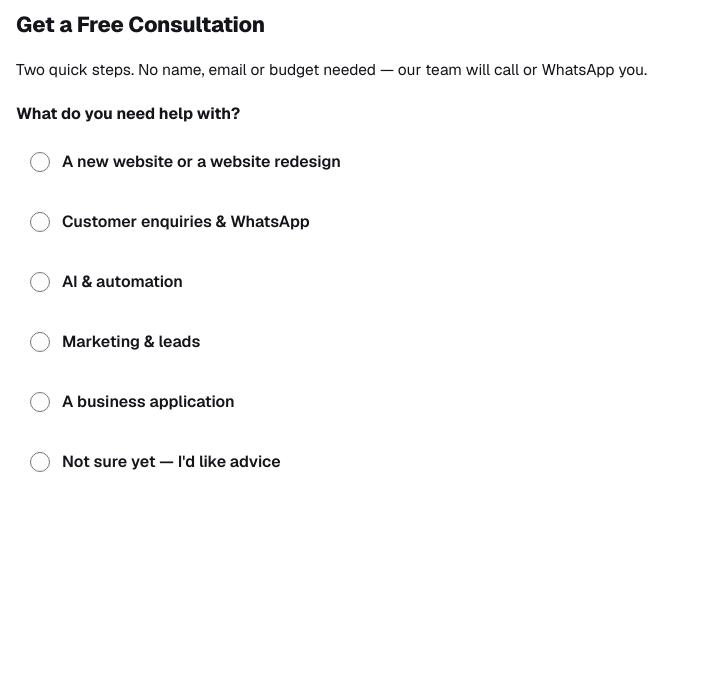
it: CampaignLeadForm › asks for the requirement first, then only a phone number and an unticked consent
Expected: the field labelled "Your mobile number" is not shown
Click the radio button labelled "AI & automation". click: click(40, 282)
box: [30,272,50,292]
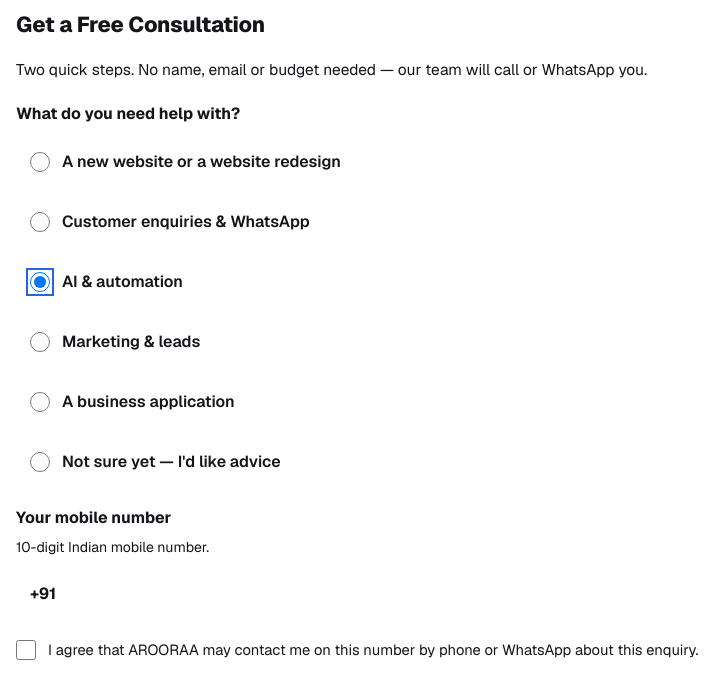
Now the checkbox named "I agree that AROORAA may contact me on this number by phone or WhatsApp about this enquiry." is not checked, box [16,640,36,660]
